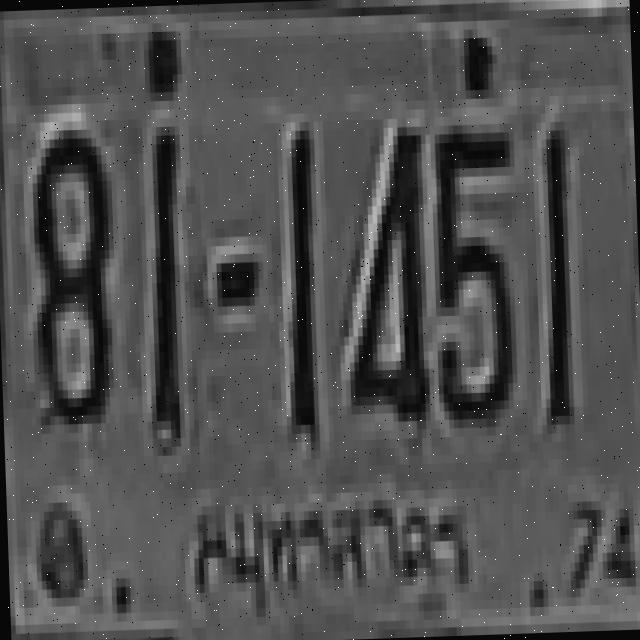1: (142, 126, 184, 438), (280, 122, 320, 434), (278, 122, 317, 434), (536, 126, 569, 420)
4: (336, 114, 426, 418)
5: (426, 114, 516, 420)
8: (26, 120, 114, 416)
SamutSakhon: (176, 454, 487, 629)
